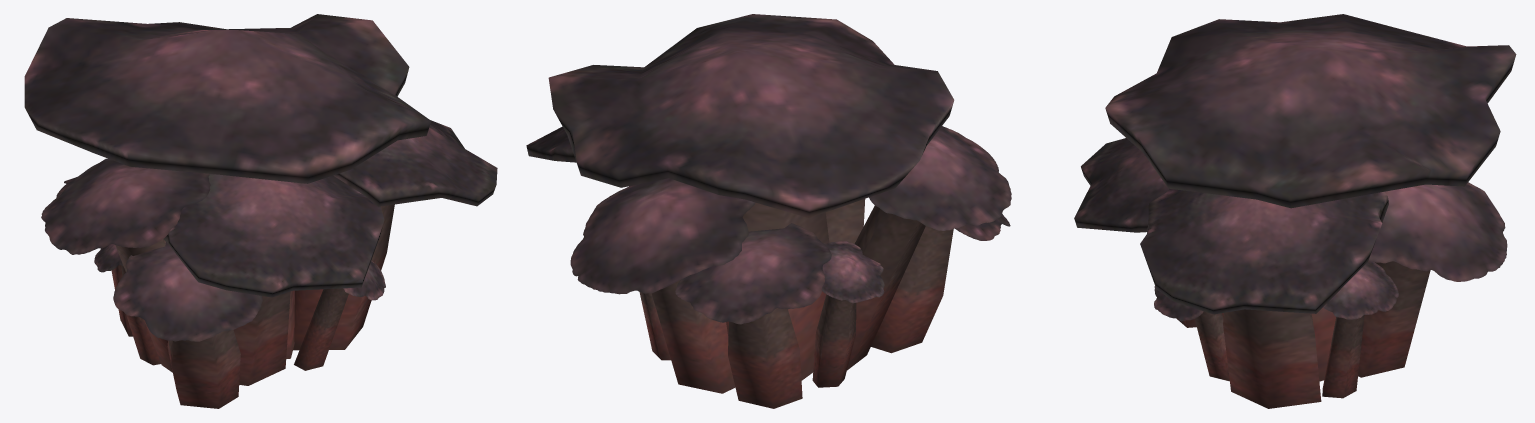
File: S_Plant_Mogu006.FBX
3 renders of one model, left to right at view 1: azimuth 30°, elevation 25°; view 2: azimuth 150°, elevation 25°; view 3: azimuth 270°, elevation 25°, orthographic. The views are drawn at different scales.
Visible parts, largest first — view 1: S_Plant_Mogu006; view 2: S_Plant_Mogu006; view 3: S_Plant_Mogu006.
Boxes of the visible parts, x1,y1,x2,y2 form: S_Plant_Mogu006: (24, 14, 497, 408); S_Plant_Mogu006: (526, 14, 1011, 408); S_Plant_Mogu006: (1074, 14, 1516, 408).
Size of the model in its own units: 129 by 114 by 86.33.
